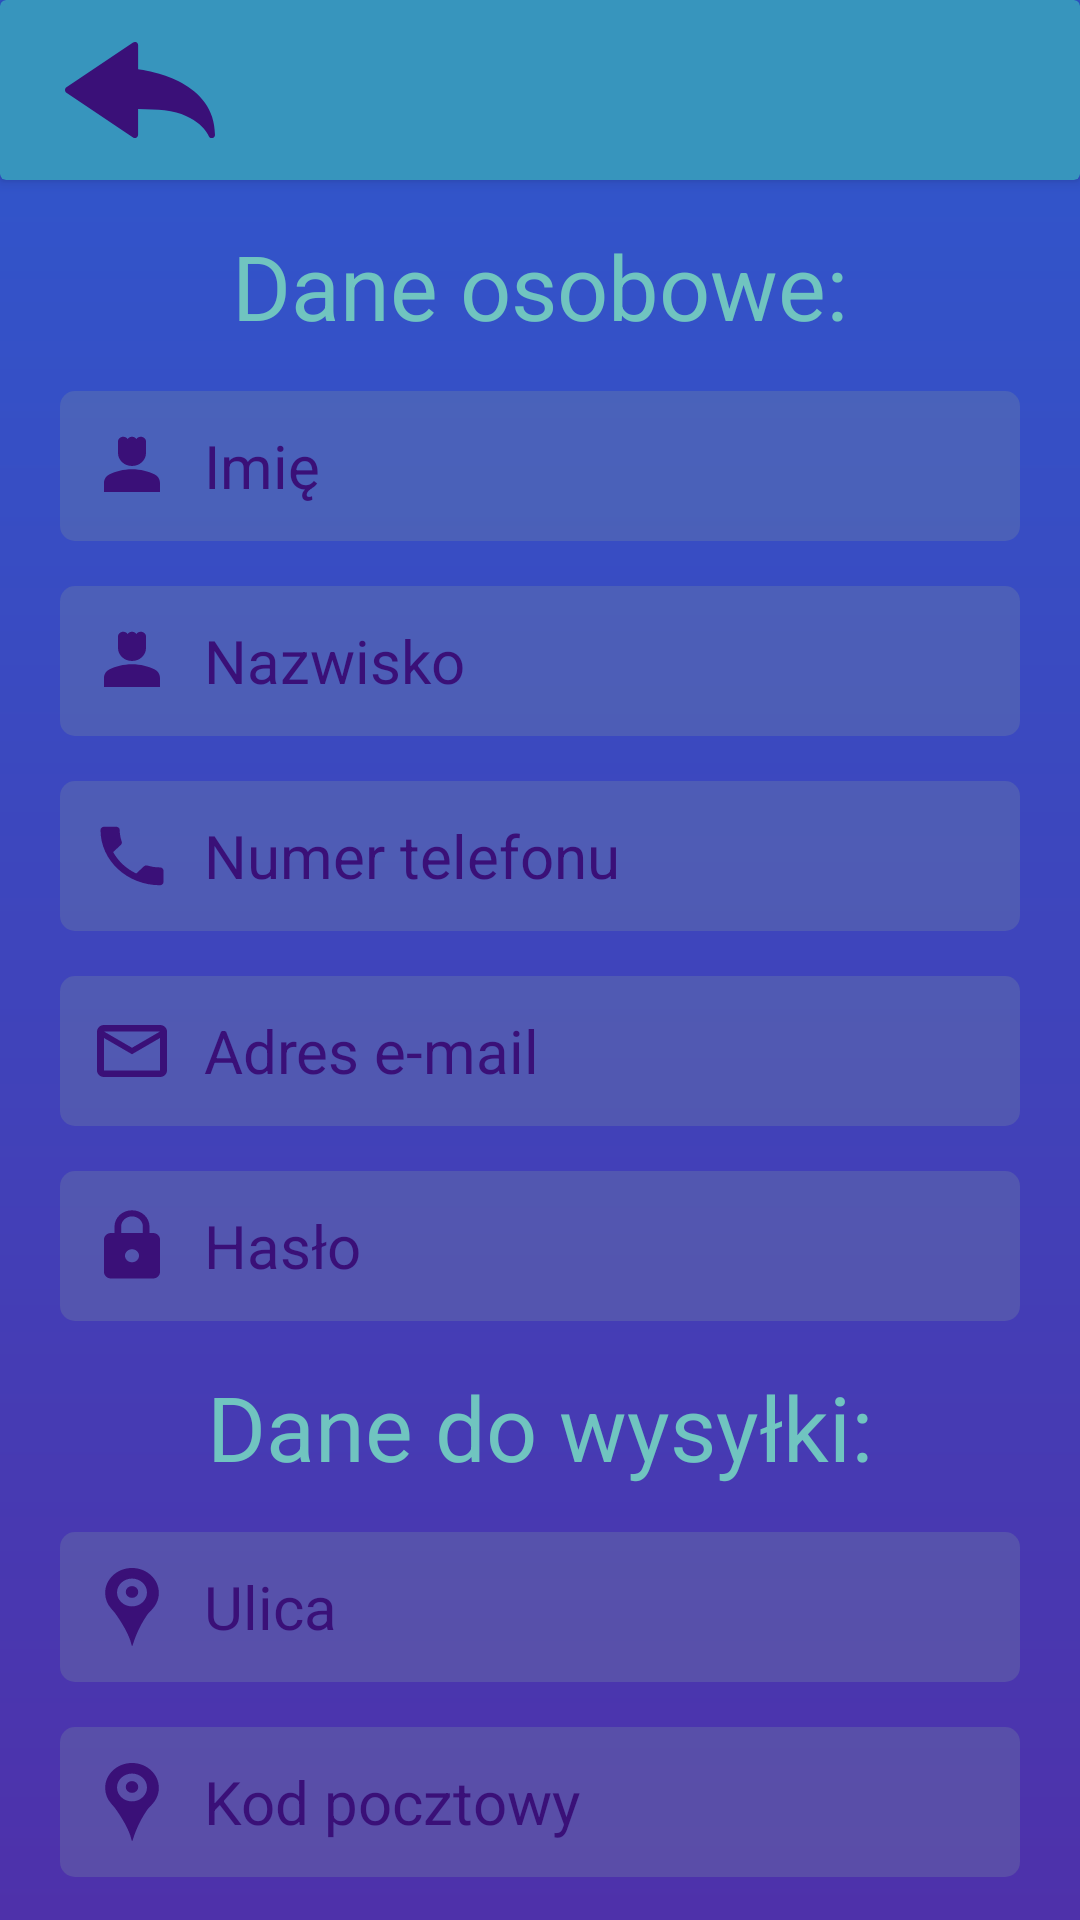

Screen size 1080x1920. Icon name, then its center in pixels as (x,y):
back arrow: (140,90)
